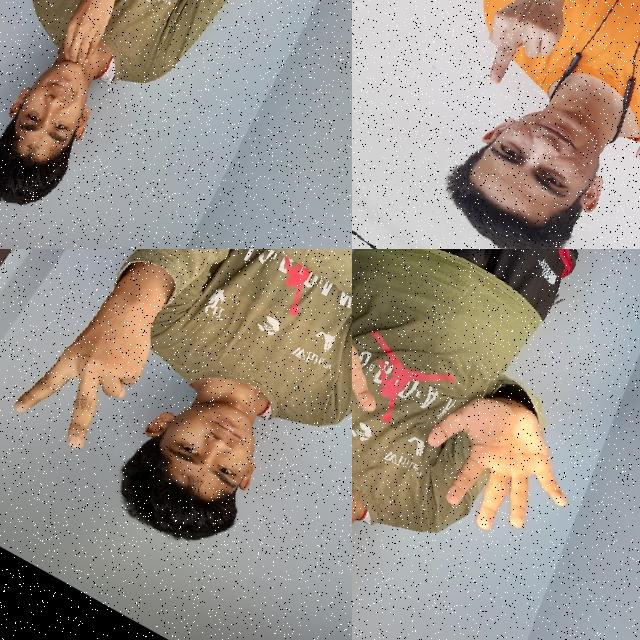Chin Flick: (0, 0, 159, 223)
Middle Finger: (460, 0, 587, 108), (596, 31, 640, 191)
Moutza: (394, 364, 608, 566), (352, 268, 408, 475)
Reversed Victory: (0, 250, 184, 465)
